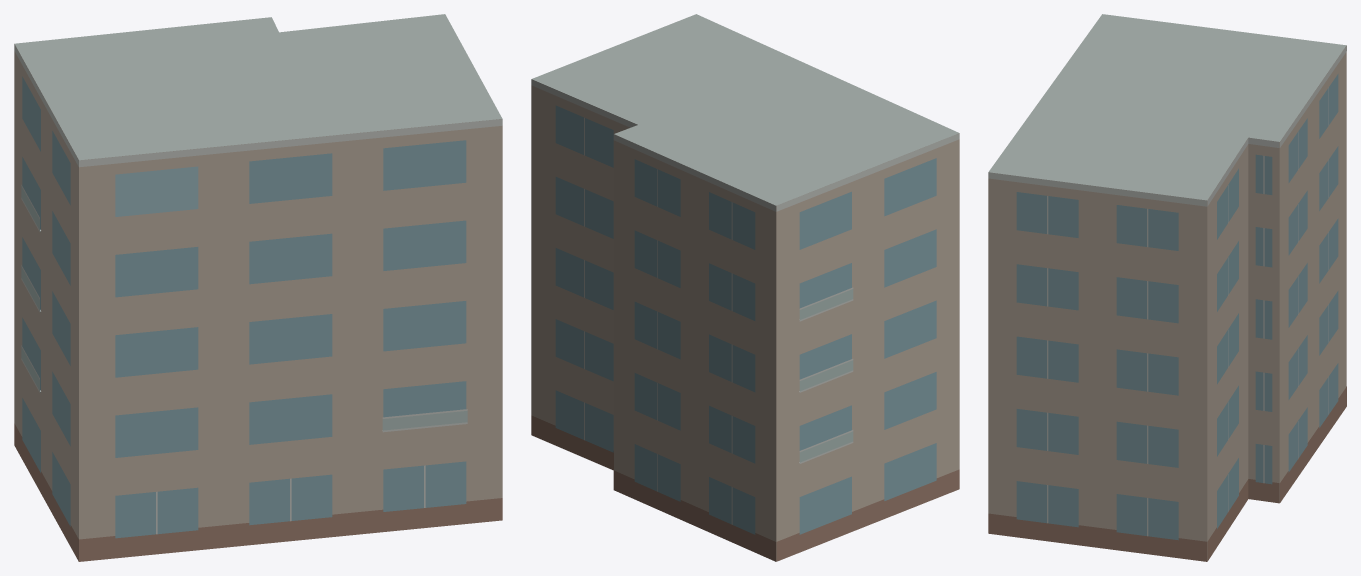
The model's file is survey-upis-32939411.glb.
The picture shows the model from 3 angles, left to right: view 1: azimuth 30°, elevation 25°; view 2: azimuth 150°, elevation 25°; view 3: azimuth 270°, elevation 25°; orthographic projection. The views are drawn at different scales.
Visible parts, largest first — view 1: survey-upis-32939411.tmp; view 2: survey-upis-32939411.tmp; view 3: survey-upis-32939411.tmp.
Boxes of the visible parts, x1,y1,x2,y2 form: survey-upis-32939411.tmp: (14,14,502,561); survey-upis-32939411.tmp: (531,14,959,561); survey-upis-32939411.tmp: (988,14,1346,561).
Bounding box in the file's own units: 15.61 × 14.1 × 12.68.
